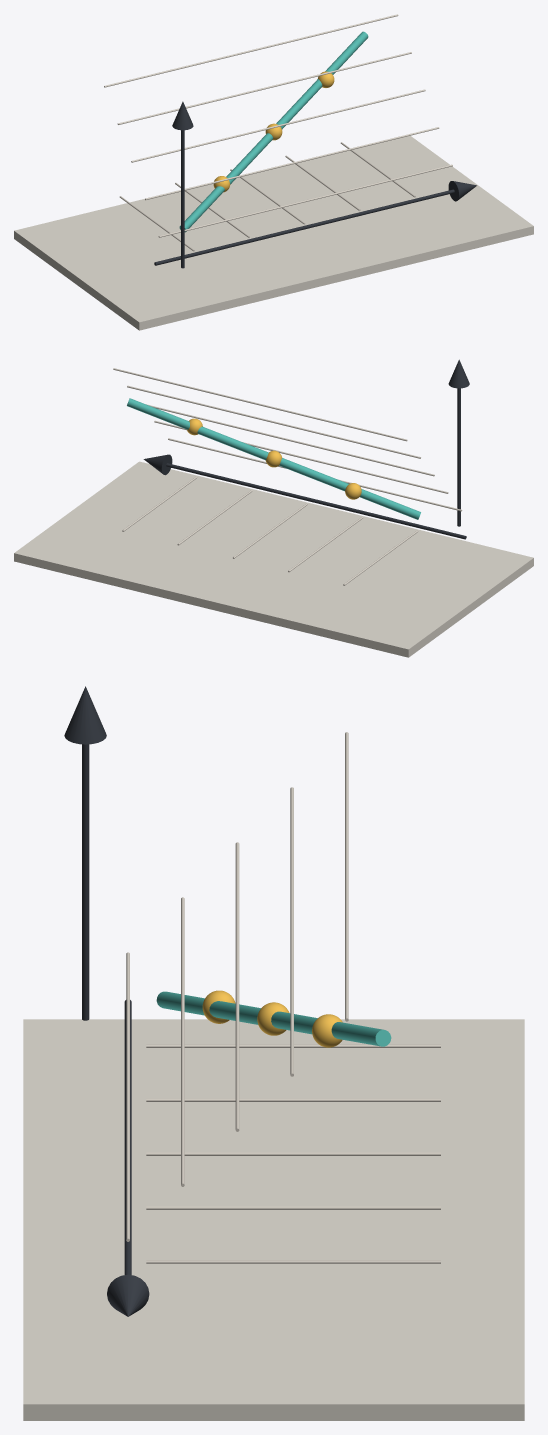
File: math-advanced-math-graphs-linear-function.glb
The picture shows the model from 3 angles, top to bottom: view 1: azimuth 30°, elevation 25°; view 2: azimuth 150°, elevation 25°; view 3: azimuth 270°, elevation 25°; orthographic projection. The views are drawn at different scales.
Parts seen in each view (by area): view 1: advanced-math-base, linear-function-straight-rule, math-graphs-linear-function-x-axis-shaft, math-graphs-linear-function-horizontal-grid-5, math-graphs-linear-function-horizontal-grid-3, math-graphs-linear-function-horizontal-grid-1, math-graphs-linear-function-horizontal-grid-2, math-graphs-linear-function-horizontal-grid-4, math-graphs-linear-function-y-axis-shaft; view 2: advanced-math-base, linear-function-straight-rule, math-graphs-linear-function-x-axis-shaft, math-graphs-linear-function-horizontal-grid-4, math-graphs-linear-function-horizontal-grid-5, math-graphs-linear-function-horizontal-grid-3, math-graphs-linear-function-horizontal-grid-2, math-graphs-linear-function-y-axis-shaft, math-graphs-linear-function-horizontal-grid-1, math-graphs-linear-function-y-axis-head; view 3: advanced-math-base, linear-function-straight-rule, math-graphs-linear-function-y-axis-shaft, math-graphs-linear-function-x-axis-shaft, math-graphs-linear-function-horizontal-grid-3, math-graphs-linear-function-y-axis-head, math-graphs-linear-function-x-axis-head, math-graphs-linear-function-vertical-grid-4, math-graphs-linear-function-vertical-grid-5, math-graphs-linear-function-vertical-grid-3, math-graphs-linear-function-horizontal-grid-4, math-graphs-linear-function-horizontal-grid-1 (+4 smaller).
Part boxes in pixels (x1,y1,x2,y2): advanced-math-base: (14, 135, 533, 330); linear-function-straight-rule: (179, 31, 368, 232); math-graphs-linear-function-x-axis-shaft: (154, 189, 454, 265); math-graphs-linear-function-horizontal-grid-5: (104, 14, 398, 87); math-graphs-linear-function-horizontal-grid-3: (131, 89, 425, 162); math-graphs-linear-function-horizontal-grid-1: (158, 164, 452, 237); math-graphs-linear-function-horizontal-grid-2: (145, 127, 439, 200); math-graphs-linear-function-horizontal-grid-4: (117, 52, 411, 124); math-graphs-linear-function-y-axis-shaft: (181, 130, 184, 268); advanced-math-base: (14, 461, 533, 657); linear-function-straight-rule: (127, 398, 420, 519); math-graphs-linear-function-x-axis-shaft: (166, 463, 466, 539); math-graphs-linear-function-horizontal-grid-4: (127, 385, 420, 458); math-graphs-linear-function-horizontal-grid-5: (113, 368, 407, 441); math-graphs-linear-function-horizontal-grid-3: (146, 404, 434, 476); math-graphs-linear-function-horizontal-grid-2: (154, 420, 448, 493); math-graphs-linear-function-y-axis-shaft: (457, 388, 460, 526); math-graphs-linear-function-horizontal-grid-1: (168, 438, 462, 511); math-graphs-linear-function-y-axis-head: (448, 359, 469, 388); advanced-math-base: (23, 1019, 524, 1420); linear-function-straight-rule: (156, 991, 391, 1046); math-graphs-linear-function-y-axis-shaft: (82, 744, 89, 1020); math-graphs-linear-function-x-axis-shaft: (124, 1000, 131, 1274); math-graphs-linear-function-horizontal-grid-3: (235, 842, 239, 1131); math-graphs-linear-function-y-axis-head: (64, 686, 106, 744); math-graphs-linear-function-x-axis-head: (107, 1274, 149, 1316); math-graphs-linear-function-vertical-grid-4: (146, 1206, 440, 1209); math-graphs-linear-function-vertical-grid-5: (146, 1260, 440, 1263); math-graphs-linear-function-vertical-grid-3: (146, 1152, 440, 1155); math-graphs-linear-function-horizontal-grid-4: (290, 787, 293, 1076); math-graphs-linear-function-horizontal-grid-1: (126, 952, 129, 1241).
Size of what is drawn, in the model's own units: 3 by 1.48 by 1.65.
